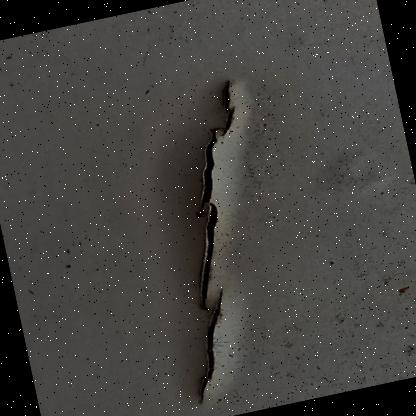Crack: (77, 44, 353, 415)
